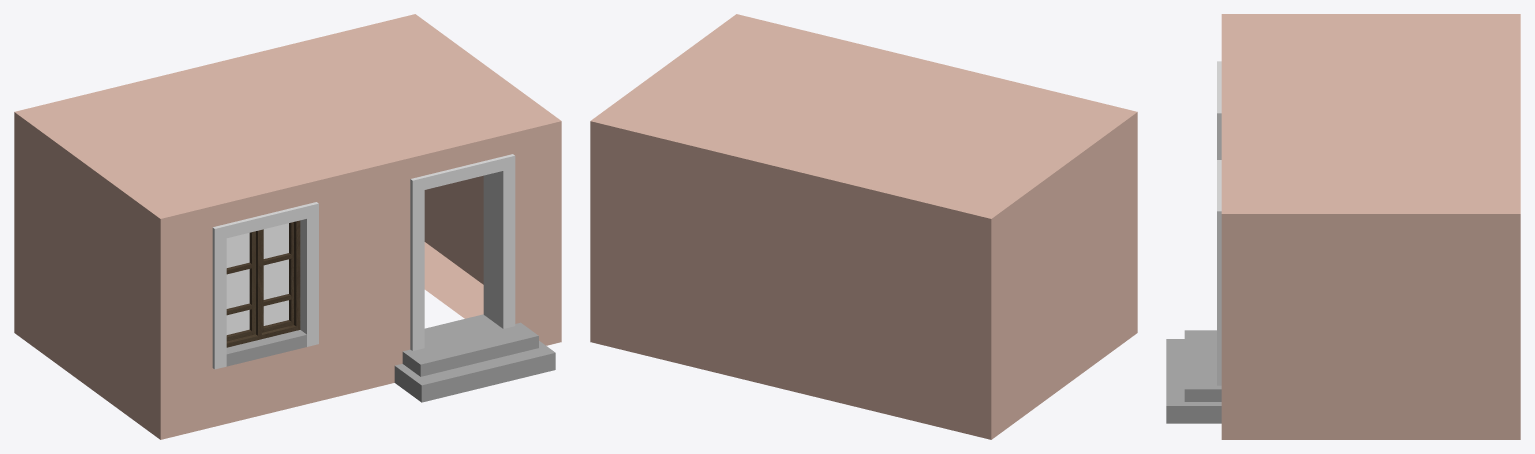
File: Building_06_Door.fbx
3 views of the same model, side by side, from view 1: azimuth 30°, elevation 25°; view 2: azimuth 150°, elevation 25°; view 3: azimuth 270°, elevation 25° (orthographic). The views are drawn at different scales.
Parts seen in each view (by area): view 1: Building_06_Door; view 2: Building_06_Door; view 3: Building_06_Door.
Boxes of the visible parts, x1,y1,x2,y2 form: Building_06_Door: (14, 14, 561, 439); Building_06_Door: (590, 14, 1137, 439); Building_06_Door: (1166, 14, 1520, 439).
Size of the model in its own units: 5.7 by 3 by 4.27.
